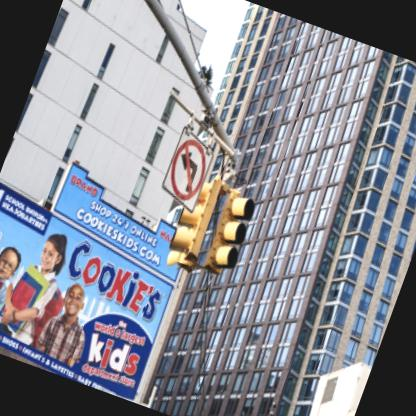trafficlight: (158, 167, 224, 270), (198, 183, 260, 282)
